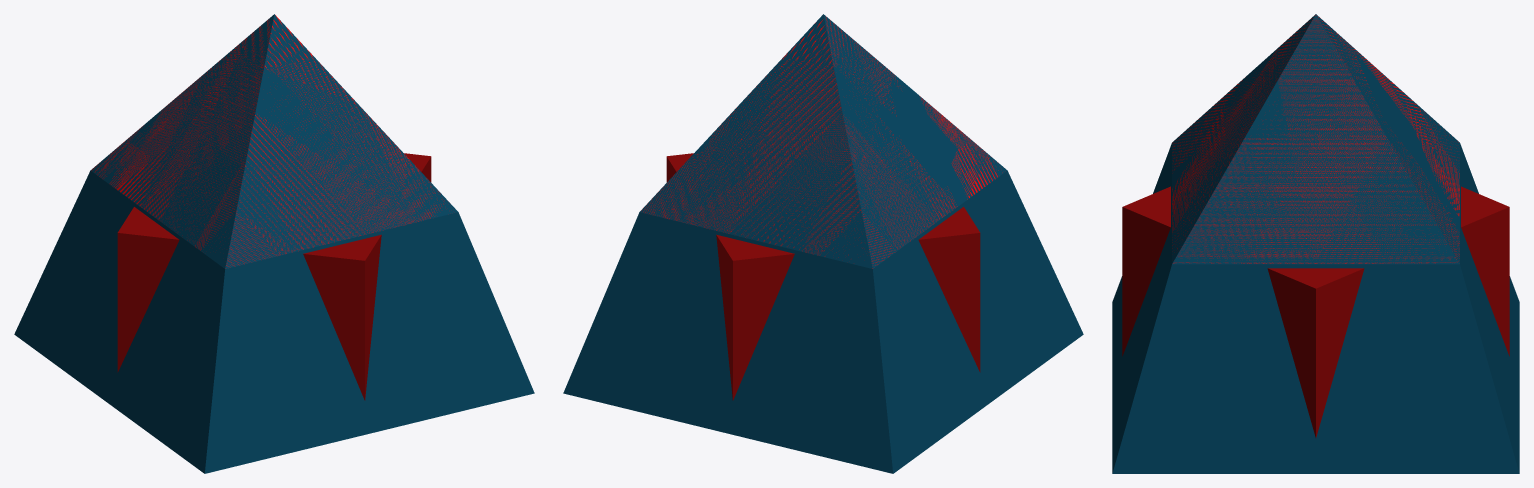
Rendered from RollABallSpikeObstacle.fbx.
3 renders of one model, left to right at view 1: azimuth 30°, elevation 25°; view 2: azimuth 150°, elevation 25°; view 3: azimuth 270°, elevation 25°, orthographic. The views are drawn at different scales.
Visible parts, largest first — view 1: Sphere; view 2: Sphere; view 3: Sphere.
Part boxes in pixels (<box>): Sphere: <box>14,14,534,473</box>; Sphere: <box>563,14,1083,473</box>; Sphere: <box>1112,14,1519,473</box>.
Bounding box in the file's own units: 99.86 × 101 × 99.86.
